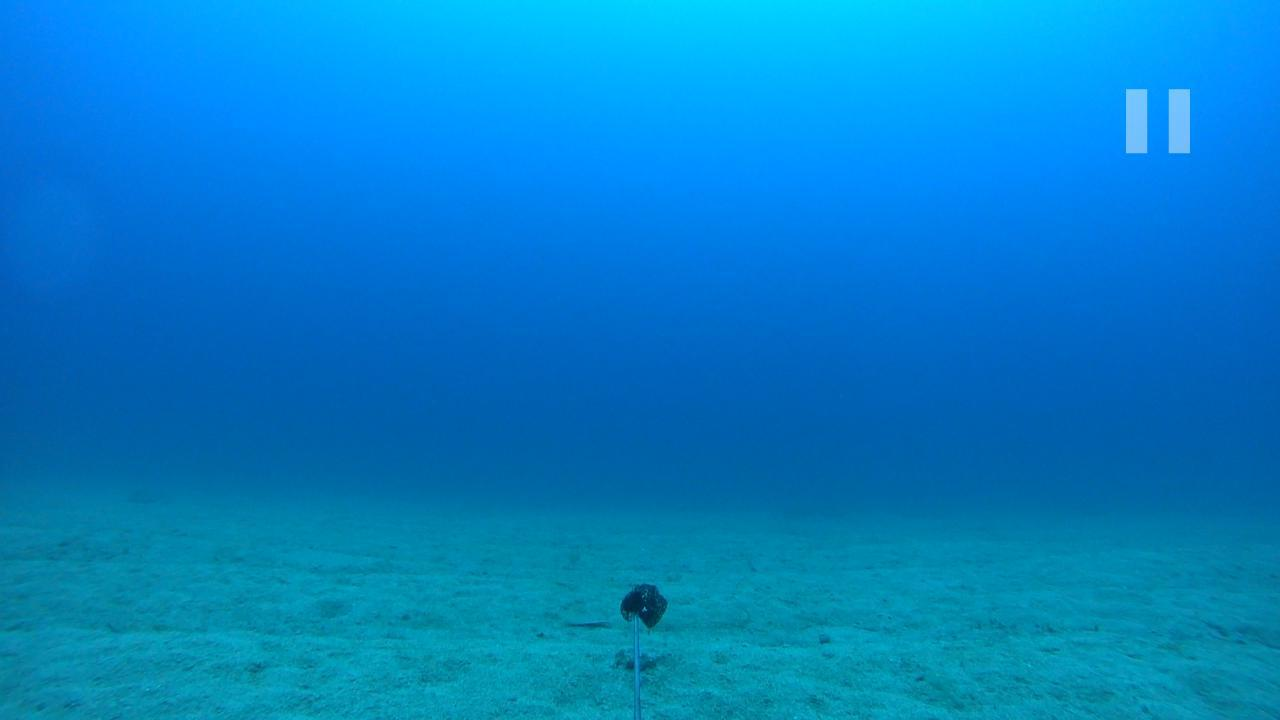bothus: (556, 606, 608, 632)
